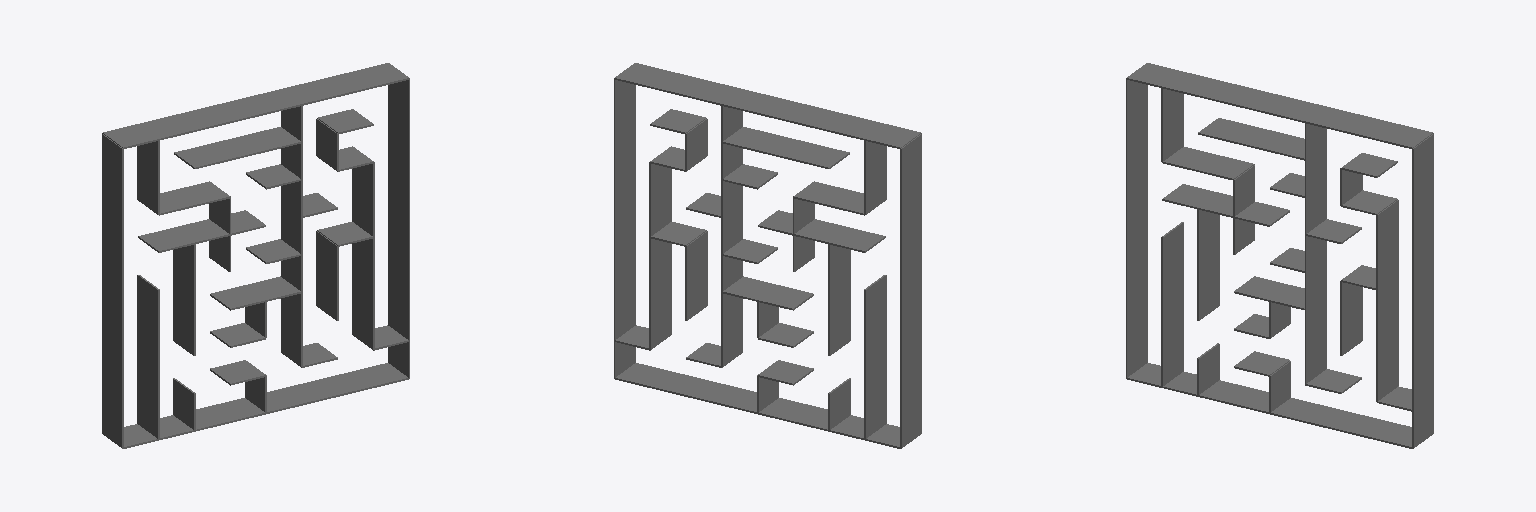
Rendered from collider.obj.
The picture shows the model from 3 angles: view 1: azimuth 30°, elevation 25°; view 2: azimuth 150°, elevation 25°; view 3: azimuth 330°, elevation 25°; orthographic projection.
Parts seen in each view (by area): view 1: collider_0001, collider_0003, collider_0045, collider_0000, collider_0005, collider_0012, collider_0011, collider_0041, collider_0008, collider_0032, collider_0018, collider_0042 (+24 smaller); view 2: collider_0001, collider_0003, collider_0045, collider_0000, collider_0005, collider_0012, collider_0011, collider_0041, collider_0008, collider_0032, collider_0018, collider_0042 (+24 smaller); view 3: collider_0001, collider_0003, collider_0045, collider_0000, collider_0005, collider_0041, collider_0011, collider_0012, collider_0008, collider_0042, collider_0025, collider_0006 (+24 smaller).
Boxes of the visible parts, <box> form: collider_0001: <box>102,134,123,447</box>; collider_0003: <box>102,63,409,148</box>; collider_0045: <box>388,80,409,339</box>; collider_0000: <box>102,363,409,448</box>; collider_0005: <box>137,275,159,438</box>; collider_0012: <box>174,127,302,168</box>; collider_0011: <box>173,244,195,355</box>; collider_0041: <box>352,238,374,348</box>; collider_0008: <box>138,210,265,252</box>; collider_0032: <box>316,231,338,320</box>; collider_0018: <box>210,276,302,310</box>; collider_0042: <box>352,163,374,235</box>; collider_0001: <box>900,134,921,447</box>; collider_0003: <box>614,63,921,148</box>; collider_0045: <box>614,80,635,339</box>; collider_0000: <box>614,363,921,448</box>; collider_0005: <box>864,275,886,438</box>; collider_0012: <box>721,127,849,168</box>; collider_0011: <box>828,244,850,355</box>; collider_0041: <box>649,238,671,348</box>; collider_0008: <box>758,210,885,252</box>; collider_0032: <box>685,231,707,320</box>; collider_0018: <box>721,276,813,310</box>; collider_0042: <box>649,163,671,235</box>; collider_0001: <box>1126,79,1147,377</box>; collider_0003: <box>1126,63,1433,148</box>; collider_0045: <box>1412,135,1433,409</box>; collider_0000: <box>1126,363,1433,448</box>; collider_0005: <box>1161,222,1183,385</box>; collider_0041: <box>1376,276,1398,400</box>; collider_0011: <box>1197,209,1219,320</box>; collider_0012: <box>1198,118,1326,160</box>; collider_0008: <box>1162,184,1289,226</box>; collider_0042: <box>1376,201,1398,288</box>; collider_0025: <box>1305,296,1326,383</box>; collider_0006: <box>1161,147,1254,179</box>.
Size of the model in its own units: 8.05 by 8.05 by 1.